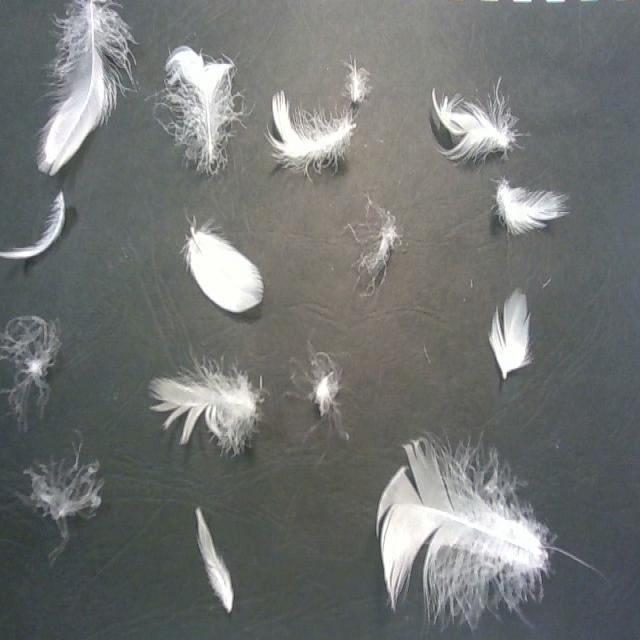feather: (373, 430, 549, 614), (30, 0, 138, 176), (147, 353, 265, 455), (159, 41, 242, 176), (21, 444, 108, 547), (183, 212, 264, 313), (428, 77, 522, 164), (267, 88, 352, 179), (0, 302, 62, 426), (289, 340, 346, 452), (496, 171, 573, 240), (346, 197, 403, 288), (0, 187, 68, 261), (193, 505, 235, 612), (487, 286, 533, 382), (343, 57, 367, 99)
